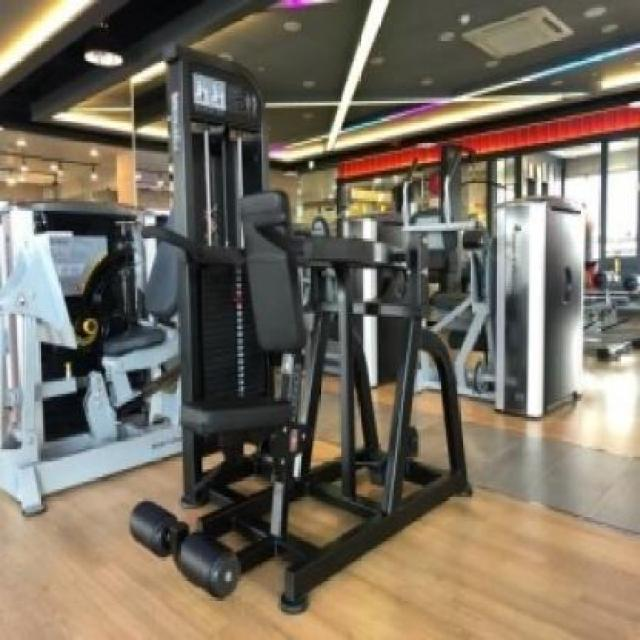seated dip machine: (142, 41, 482, 617)
